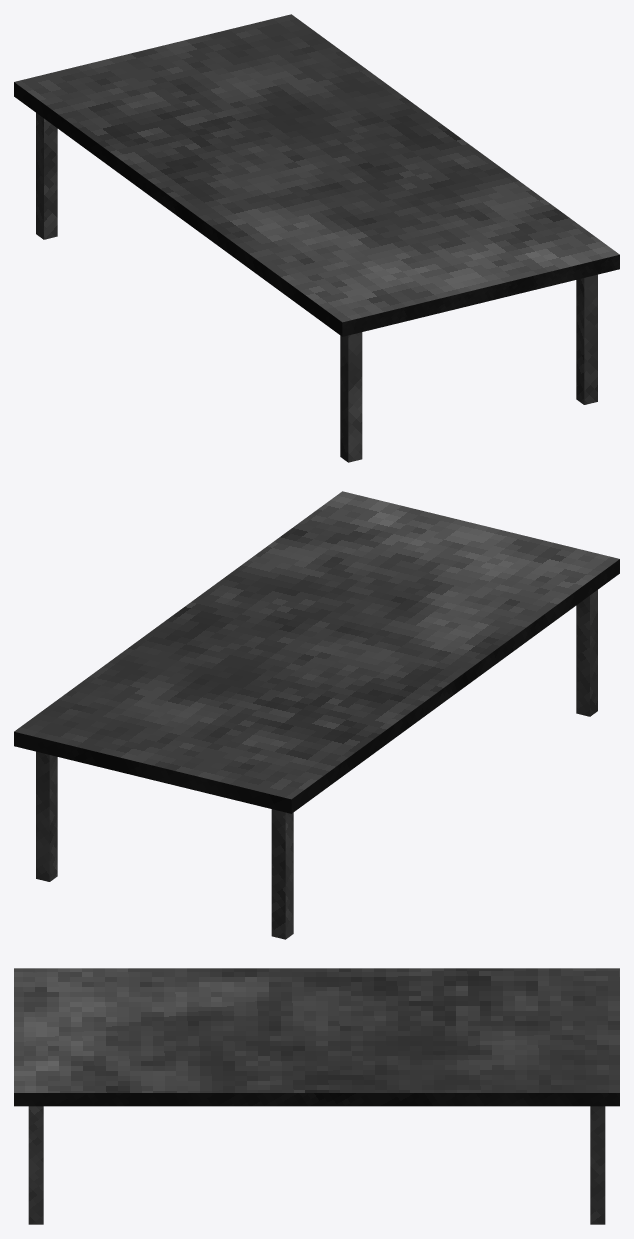
Rendered from Table.glb.
3 views of the same model, one above another, from view 1: azimuth 30°, elevation 25°; view 2: azimuth 150°, elevation 25°; view 3: azimuth 270°, elevation 25° (orthographic). The views are drawn at different scales.
Visible parts, largest first — view 1: Table; view 2: Table; view 3: Table.
Part boxes in pixels (x1,y1,x2,y2): Table: (14,14,619,462); Table: (14,491,619,939); Table: (14,968,619,1224).
Bounding box in the file's own units: 6 × 3.09 × 12.3.
Materials: 1 (1 with a texture image).
